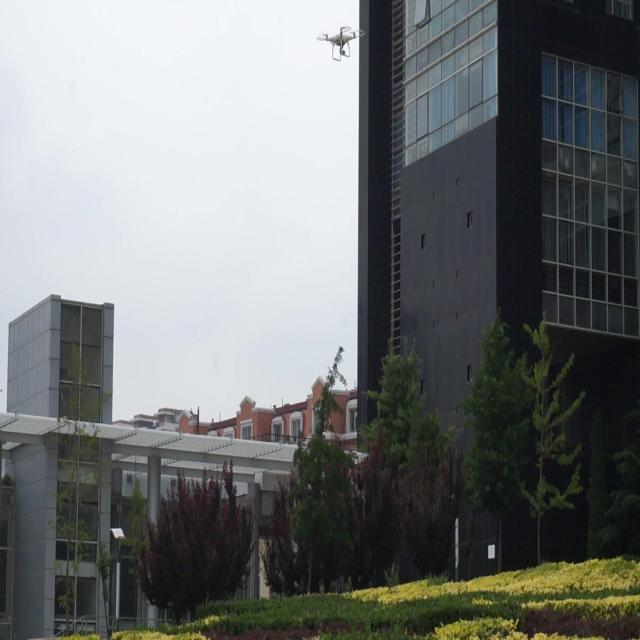drone: (317, 21, 365, 63)
